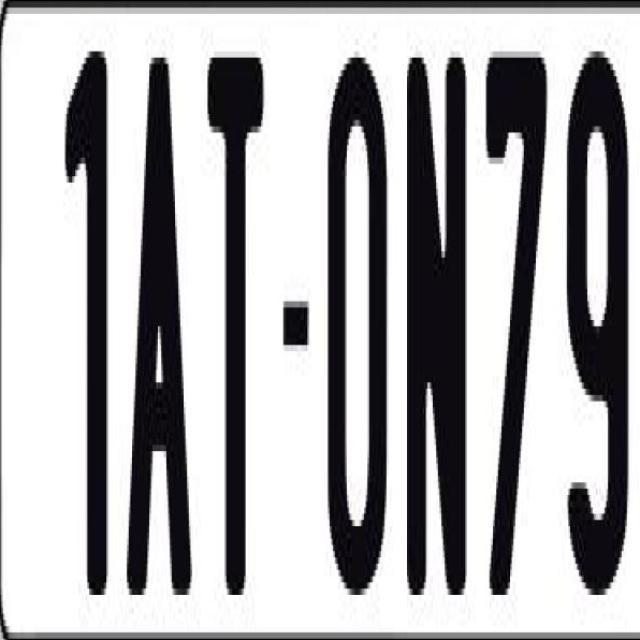license-plate: (2, 12, 640, 624)
